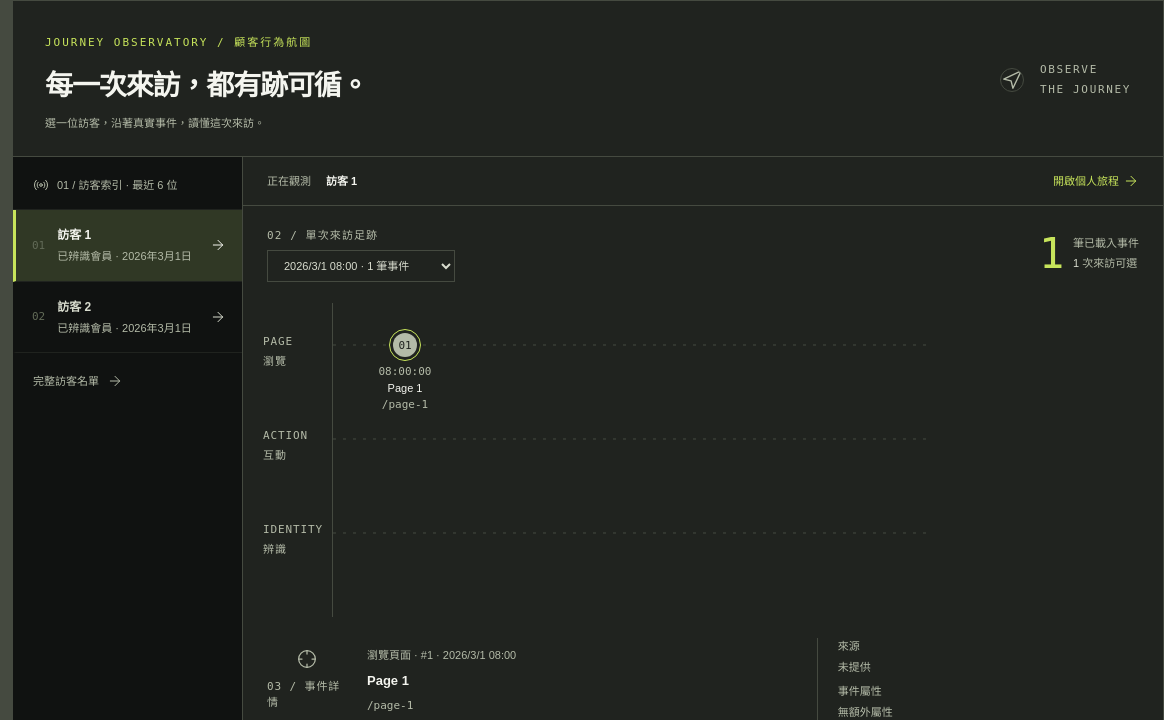
Test: selecting a visitor fetches only that visitor's observed events and updates the detail link
Expected: the button "01 08:00:00 Page 1 /page-1" is shown, x1=350 y1=333 x2=460 y2=411
Click the button "訪客 2".
click(128, 317)  # box x1=13 y1=282 x2=242 y2=353
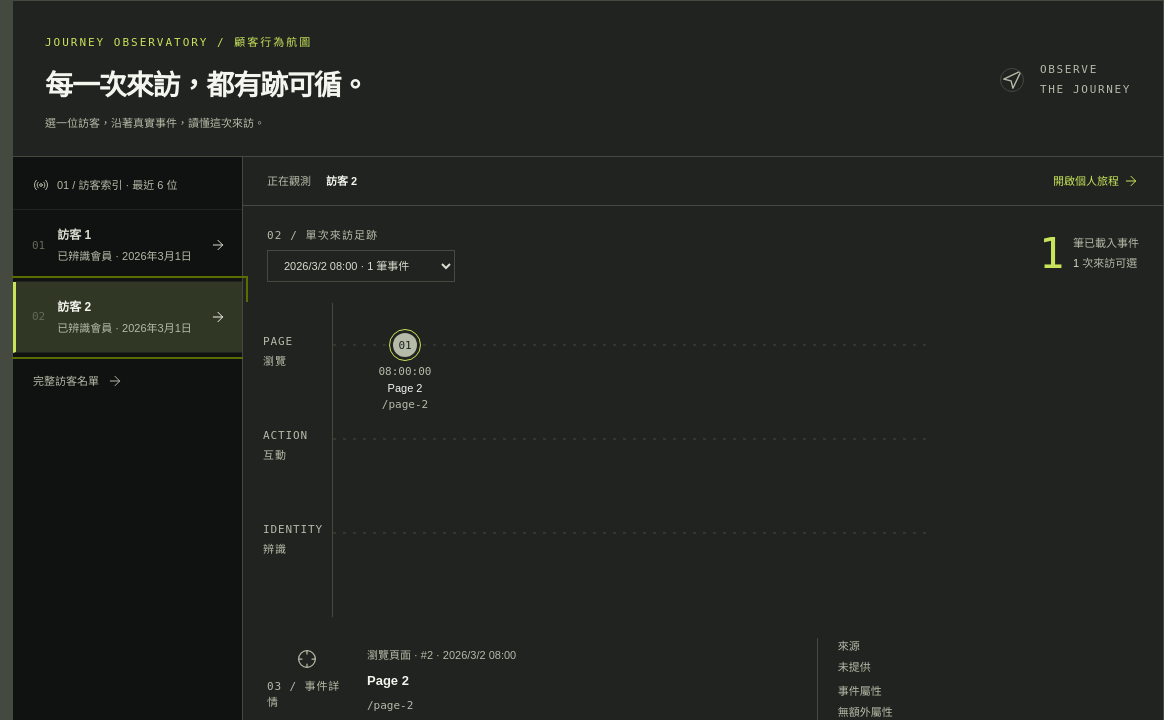
Result: the button "01 08:00:00 Page 2 /page-2" is shown at x1=350 y1=333 x2=460 y2=411
Result: the button "Page 1" is gone
